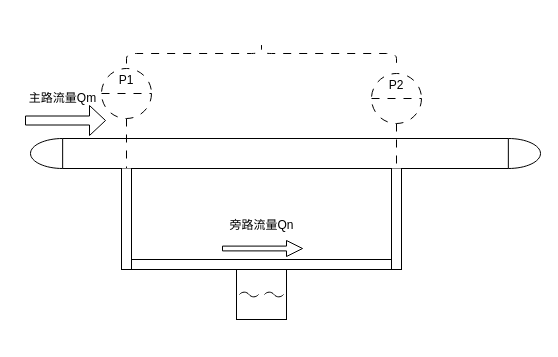
Image size: 558x357. Some labels were removed from this diagram. The box of each missing label's shape, as (x1, y1, x2, y2) in pixels:
压差：△Pm = P1-P2: (126, 42, 396, 64)
超声波流量计：温度Tn、表内绝压Pn、旁路流量速度Qn: (236, 268, 286, 320)
